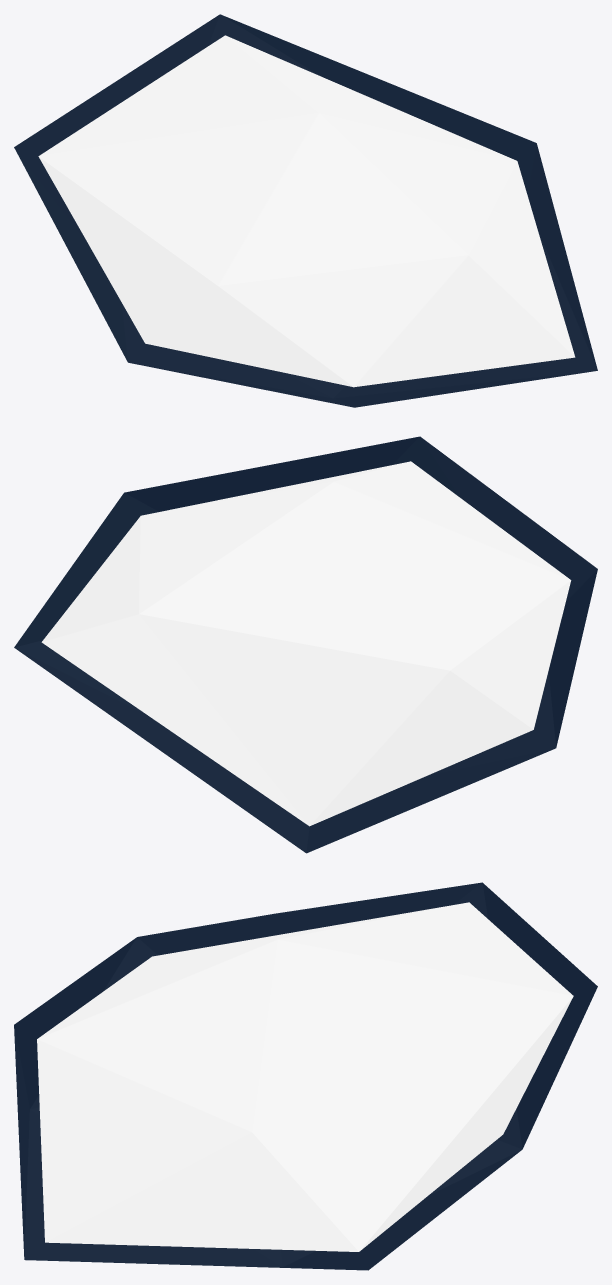
Rendered from stone_m.glb.
3 renders of one model, top to bottom at view 1: azimuth 30°, elevation 25°; view 2: azimuth 150°, elevation 25°; view 3: azimuth 270°, elevation 25°, orthographic. The views are drawn at different scales.
Visible parts, largest first — view 1: Body, Outline; view 2: Body, Outline; view 3: Body, Outline.
Boxes of the visible parts, left/top/right/bottom form: Body: left=38, top=35, right=575, bottom=387; Outline: left=14, top=14, right=597, bottom=407; Body: left=41, top=461, right=571, bottom=826; Outline: left=14, top=436, right=597, bottom=853; Body: left=37, top=902, right=573, bottom=1251; Outline: left=14, top=882, right=597, bottom=1270.
Size of the model in its own units: 6.98 by 4.57 by 7.01.
